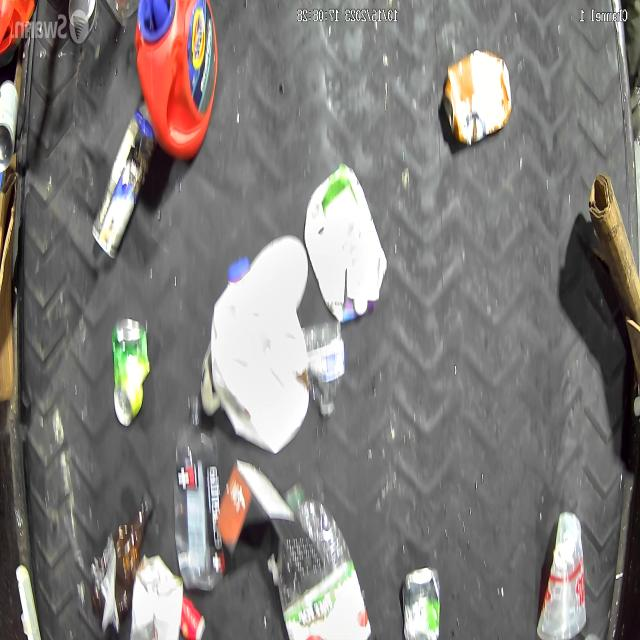can: (442, 50, 512, 145), (114, 308, 150, 421)
milk_jug: (213, 243, 307, 455)
non_white_jug: (140, 0, 219, 149)
plastic_bottle: (281, 478, 369, 638), (178, 395, 215, 570), (301, 302, 342, 426)
